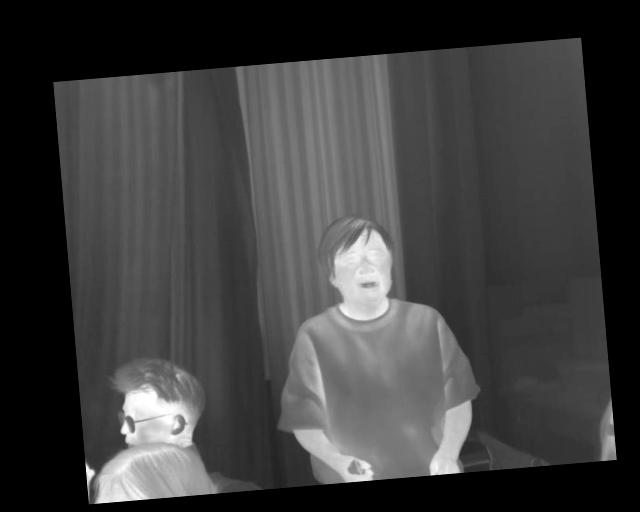face: (314, 213, 400, 311)
